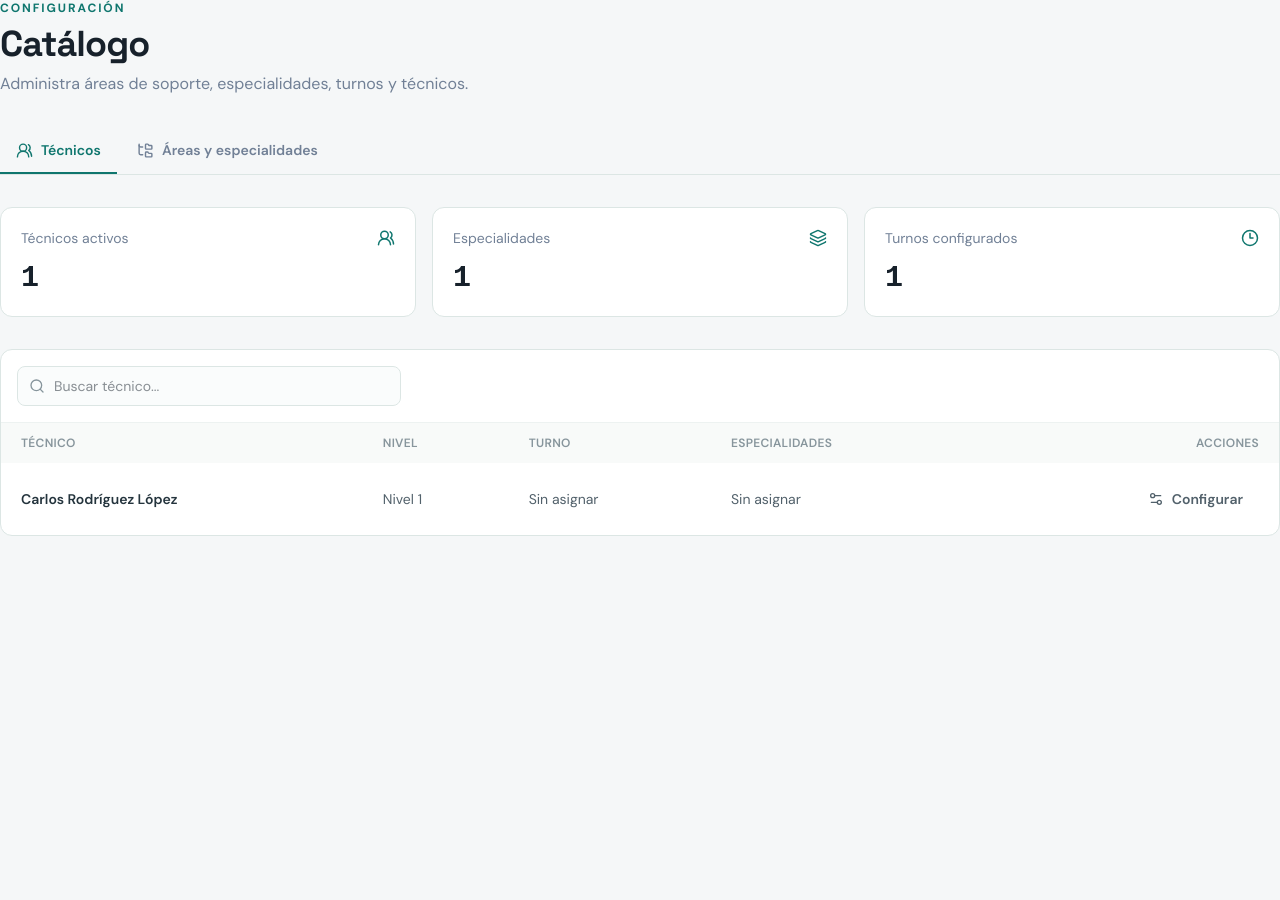
Test: CatalogPage con opciones predefinidas › la carga máxima del técnico es un selector de 1 a 15
Step 1. Click the button "Configurar" → [1195, 499], box [1132,479,1259,519]
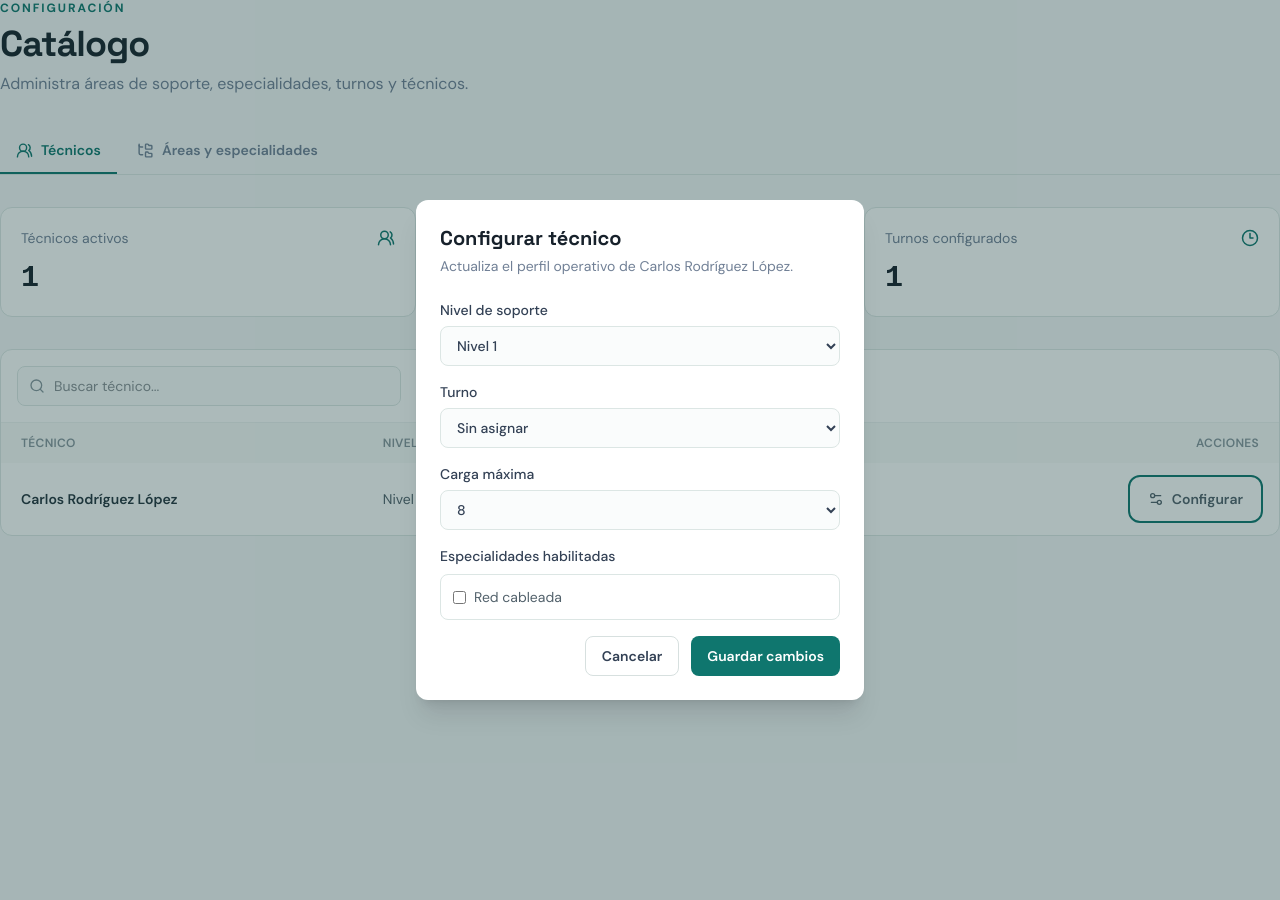
Check: the dropdown labelled "Carga máxima" shows "8", box [440,490,840,530]
